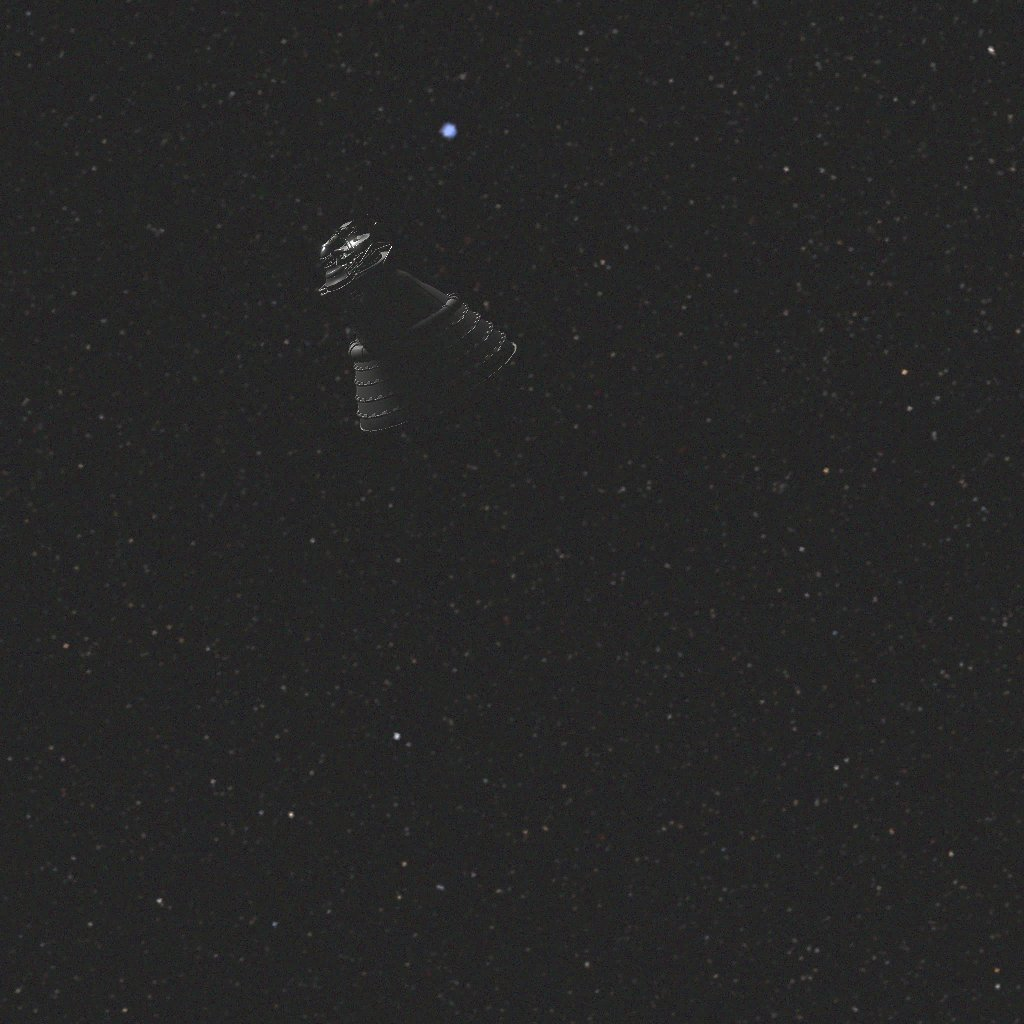debris: (302, 229, 506, 443)
